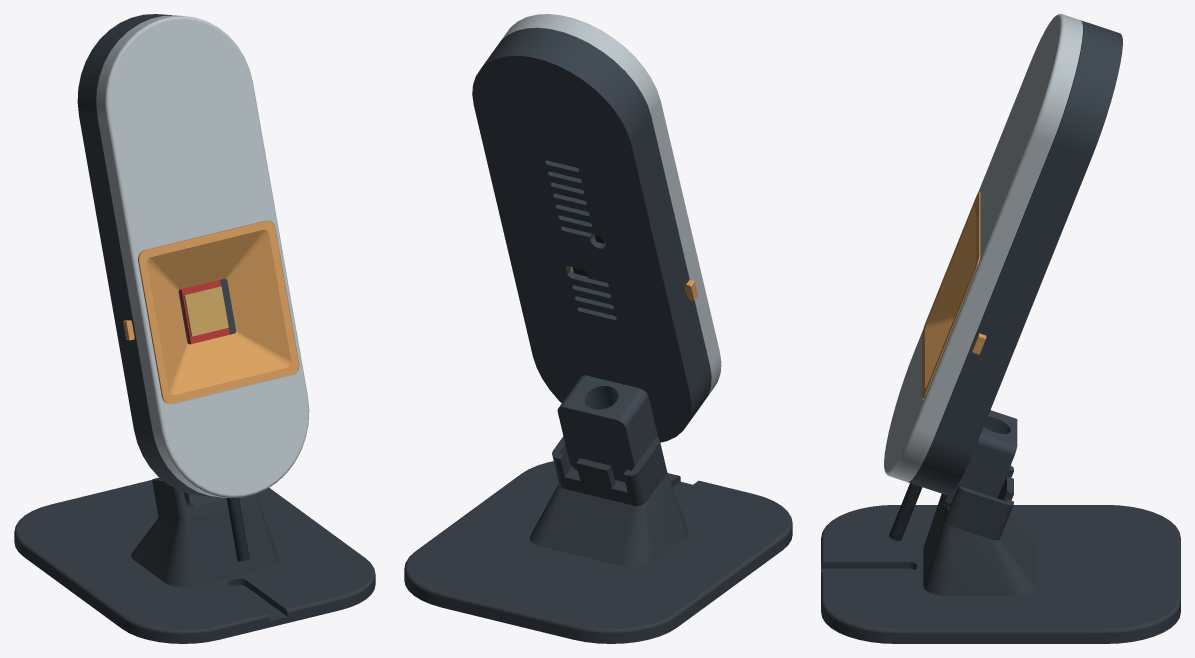
File: assembly_on_existing_stand.glb
3 views of the same model, side by side, from view 1: azimuth 30°, elevation 25°; view 2: azimuth 150°, elevation 25°; view 3: azimuth 270°, elevation 25° (orthographic). The views are drawn at different scales.
Parts seen in each view (by area): view 1: hardware_free_pill_v2_prototype/v2_sliding_open_front, single_board_desktop_dock_20deg, hardware_free_pill_v2_prototype/v2_removable_flared_aperture, hardware_free_pill_v2_prototype/v2_rear_flat_back, hardware_free_pill_v2_prototype/reference_board_not_printabl (×2), hardware_free_pill_v2_prototype/ref_straight_USB_boot_11x20x; view 2: hardware_free_pill_v2_prototype/v2_rear_flat_back, single_board_desktop_dock_20deg, hardware_free_pill_v2_prototype/v2_detachable_stand_heel, hardware_free_pill_v2_prototype/v2_sliding_open_front; view 3: single_board_desktop_dock_20deg, hardware_free_pill_v2_prototype/v2_rear_flat_back, hardware_free_pill_v2_prototype/v2_sliding_open_front, hardware_free_pill_v2_prototype/v2_removable_flared_aperture, hardware_free_pill_v2_prototype/v2_detachable_stand_heel, hardware_free_pill_v2_prototype/ref_straight_USB_boot_11x20x.
Boxes of the visible parts, x1,y1,x2,y2 form: hardware_free_pill_v2_prototype/v2_sliding_open_front: (96,15,309,498); single_board_desktop_dock_20deg: (14,477,375,643); hardware_free_pill_v2_prototype/v2_removable_flared_aperture: (138,220,298,403); hardware_free_pill_v2_prototype/v2_rear_flat_back: (77,14,235,497); hardware_free_pill_v2_prototype/reference_board_not_printabl (×2): (179,280,229,344); hardware_free_pill_v2_prototype/ref_straight_USB_boot_11x20x: (226,497,249,561); hardware_free_pill_v2_prototype/v2_rear_flat_back: (472,28,711,442); single_board_desktop_dock_20deg: (404,436,792,643); hardware_free_pill_v2_prototype/v2_detachable_stand_heel: (557,375,658,481); hardware_free_pill_v2_prototype/v2_sliding_open_front: (501,14,721,399); single_board_desktop_dock_20deg: (821,465,1180,643); hardware_free_pill_v2_prototype/v2_rear_flat_back: (907,20,1122,495); hardware_free_pill_v2_prototype/v2_sliding_open_front: (884,14,1082,481); hardware_free_pill_v2_prototype/v2_removable_flared_aperture: (922,192,980,398); hardware_free_pill_v2_prototype/v2_detachable_stand_heel: (942,410,1017,507); hardware_free_pill_v2_prototype/ref_straight_USB_boot_11x20x: (889,483,922,541).
Size of the model in its own units: 0.1 by 0.2052 by 0.12.
